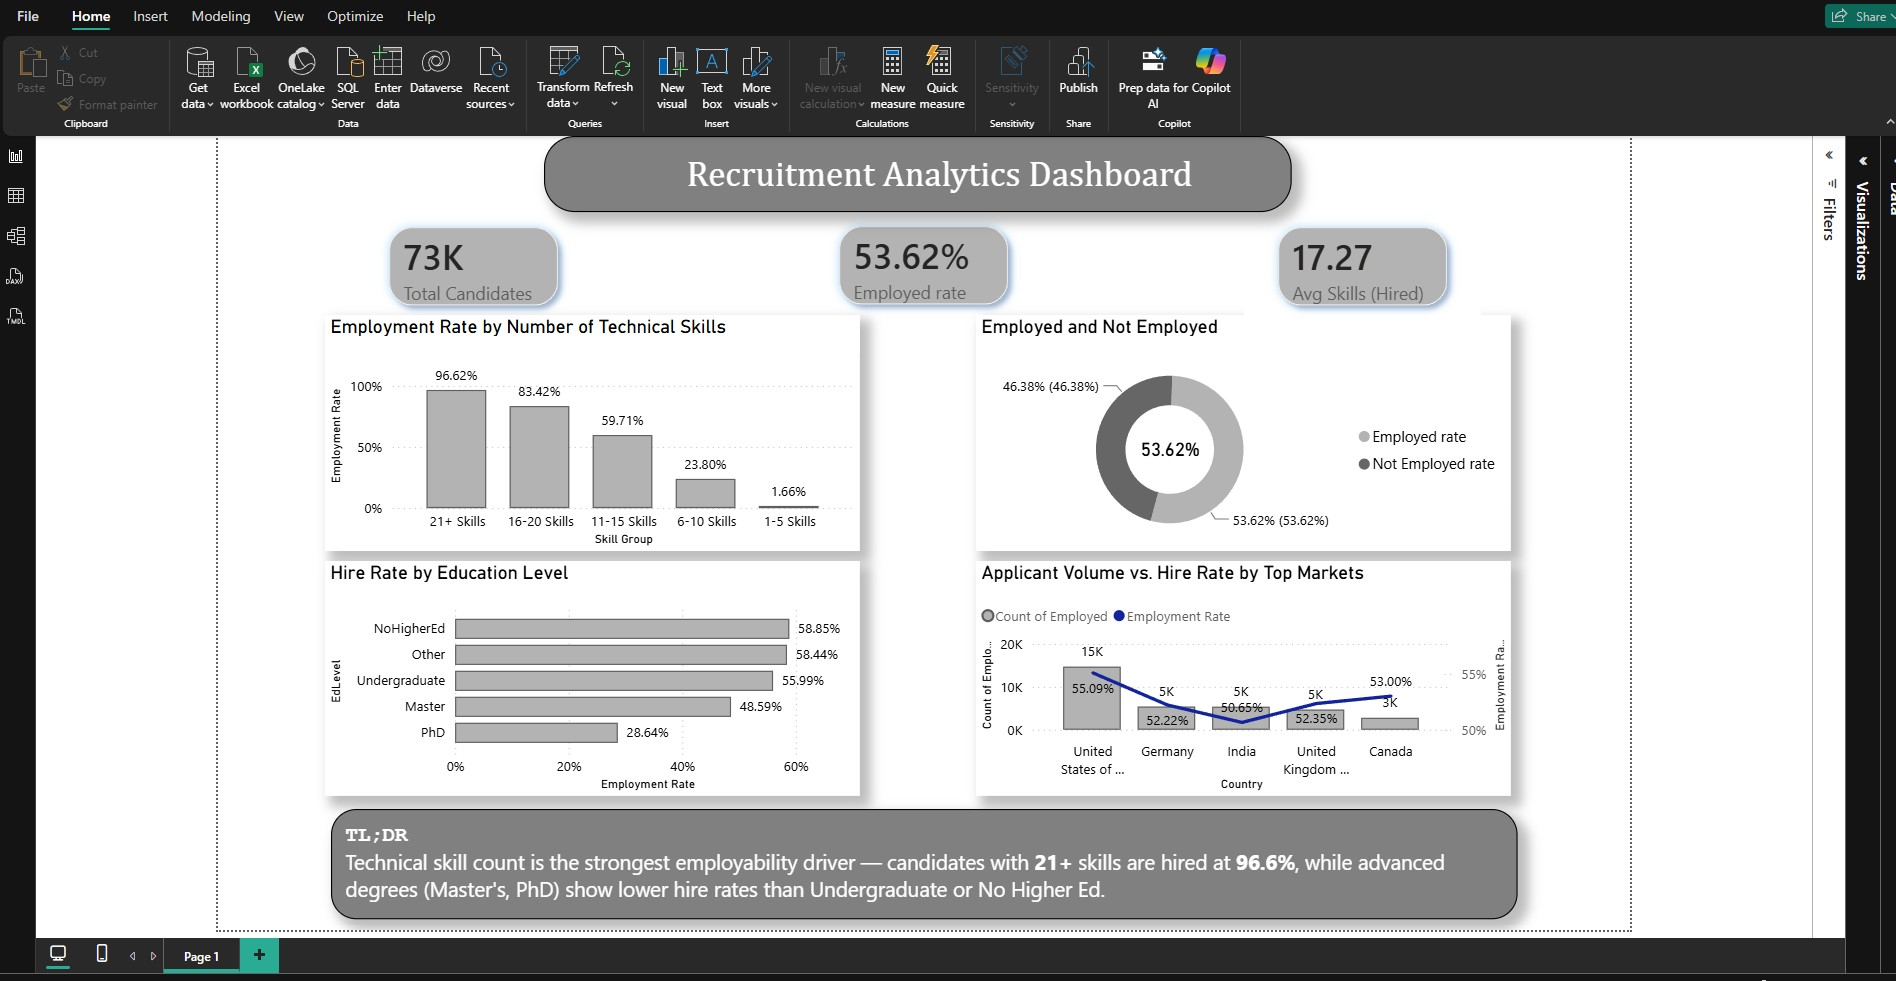

This screenshot's page, from the dashboard's own definition file:
{"tool":"powerbi","page":{"name":"Page 1","canvas":[1280,720],"ordinal":0},"visuals":[{"type":"cardVisual","fields":{"Data":["C:\\Users\\Aftab\\Downloads\\stackoverflow_full csv\\_stackoverflow_full csv.Total Candidates"]},"box":[124.5,51.6,215,133],"z":0},{"type":"cardVisual","fields":{"Data":["C:\\Users\\Aftab\\Downloads\\stackoverflow_full csv\\_stackoverflow_full csv.Employed rate"]},"box":[532,50.6,215,133],"z":1000},{"type":"donutChart","title":"Employed and Not Employed ","fields":{"Y":["C:\\Users\\Aftab\\Downloads\\stackoverflow_full csv\\_stackoverflow_full csv.Employed rate","C:\\Users\\Aftab\\Downloads\\stackoverflow_full csv\\_stackoverflow_full csv.Not Employed rate"]},"box":[687.7,162.4,485.3,214],"z":2000},{"type":"cardVisual","fields":{"Data":["C:\\Users\\Aftab\\Downloads\\stackoverflow_full csv\\_stackoverflow_full csv.AVG Hired skills"]},"box":[930.8,51.6,215,133],"z":3000},{"type":"clusteredColumnChart","title":"Employment Rate by Number of Technical Skills","fields":{"Category":["C:\\Users\\Aftab\\Downloads\\stackoverflow_full csv\\_stackoverflow_full csv.Skill Group"],"Y":["C:\\Users\\Aftab\\Downloads\\stackoverflow_full csv\\_stackoverflow_full csv.Employment Rate"]},"box":[97.3,162.4,485,214],"z":4000},{"type":"clusteredBarChart","title":"Hire Rate by Education Level","fields":{"Category":["C:\\Users\\Aftab\\Downloads\\stackoverflow_full csv\\_stackoverflow_full csv.EdLevel"],"Y":["C:\\Users\\Aftab\\Downloads\\stackoverflow_full csv\\_stackoverflow_full csv.Employment Rate"]},"box":[97.3,385.2,485,213],"z":5000},{"type":"lineClusteredColumnComboChart","title":"Applicant Volume vs. Hire Rate by Top Markets","fields":{"Category":["C:\\Users\\Aftab\\Downloads\\stackoverflow_full csv\\_stackoverflow_full csv.Country"],"Y":["CountNonNull(C:\\Users\\Aftab\\Downloads\\stackoverflow_full csv\\_stackoverflow_full csv.Employed)"],"Y2":["C:\\Users\\Aftab\\Downloads\\stackoverflow_full csv\\_stackoverflow_full csv.Employment Rate"]},"box":[687.7,385.2,485.3,213],"z":6000},{"type":"textbox","box":[295.7,0,677.8,68.9],"z":7000},{"type":"textbox","box":[102.1,609.8,1075.7,100.2],"z":7001}]}

Visuals, with their boxes on the page's 1280x720 design canvas (x1, y1, x2, y2). These are canvas units, not pixel positions in the 1896x981 screenshot, which may show the page scaled, cropped or inside an application window:
cardVisual - C:\Users\Aftab\Downloads\stackoverflow_full csv\_stackoverflow_full csv.Total Candidates: bbox=[124, 52, 340, 185]
cardVisual - C:\Users\Aftab\Downloads\stackoverflow_full csv\_stackoverflow_full csv.Employed rate: bbox=[532, 51, 747, 184]
"Employed and Not Employed " donutChart: bbox=[688, 162, 1173, 376]
cardVisual - C:\Users\Aftab\Downloads\stackoverflow_full csv\_stackoverflow_full csv.AVG Hired skills: bbox=[931, 52, 1146, 185]
"Employment Rate by Number of Technical Skills" clusteredColumnChart: bbox=[97, 162, 582, 376]
"Hire Rate by Education Level" clusteredBarChart: bbox=[97, 385, 582, 598]
"Applicant Volume vs. Hire Rate by Top Markets" lineClusteredColumnComboChart: bbox=[688, 385, 1173, 598]
textbox: bbox=[296, 0, 974, 69]
textbox: bbox=[102, 610, 1178, 710]
